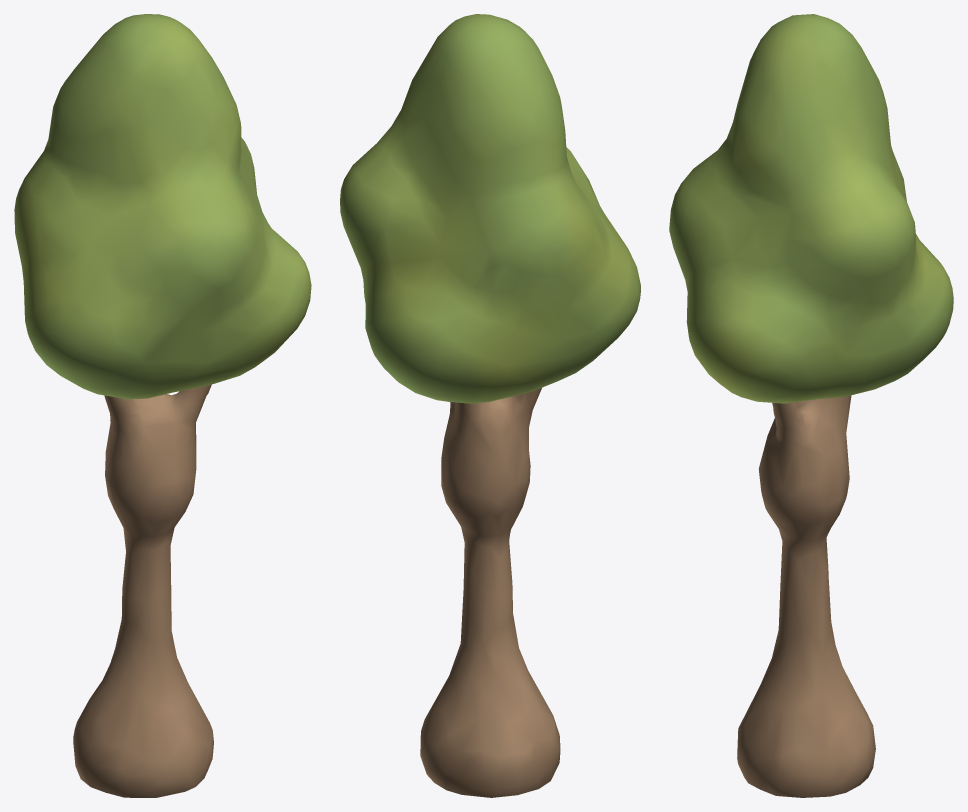
The model's file is tree1.glb.
3 renders of one model, left to right at view 1: azimuth 30°, elevation 25°; view 2: azimuth 150°, elevation 25°; view 3: azimuth 270°, elevation 25°, orthographic.
Visible parts, largest first — view 1: canopy_tall, body; view 2: canopy_tall, body; view 3: canopy_tall, body.
Part boxes in pixels (left/top/right/bottom): canopy_tall: left=14, top=14, right=311, bottom=399; body: left=73, top=384, right=213, bottom=797; canopy_tall: left=340, top=14, right=640, bottom=403; body: left=420, top=388, right=560, bottom=797; canopy_tall: left=669, top=14, right=953, bottom=403; body: left=737, top=395, right=875, bottom=797.
Size of the model in its own units: 2.43 by 6.73 by 2.27.
